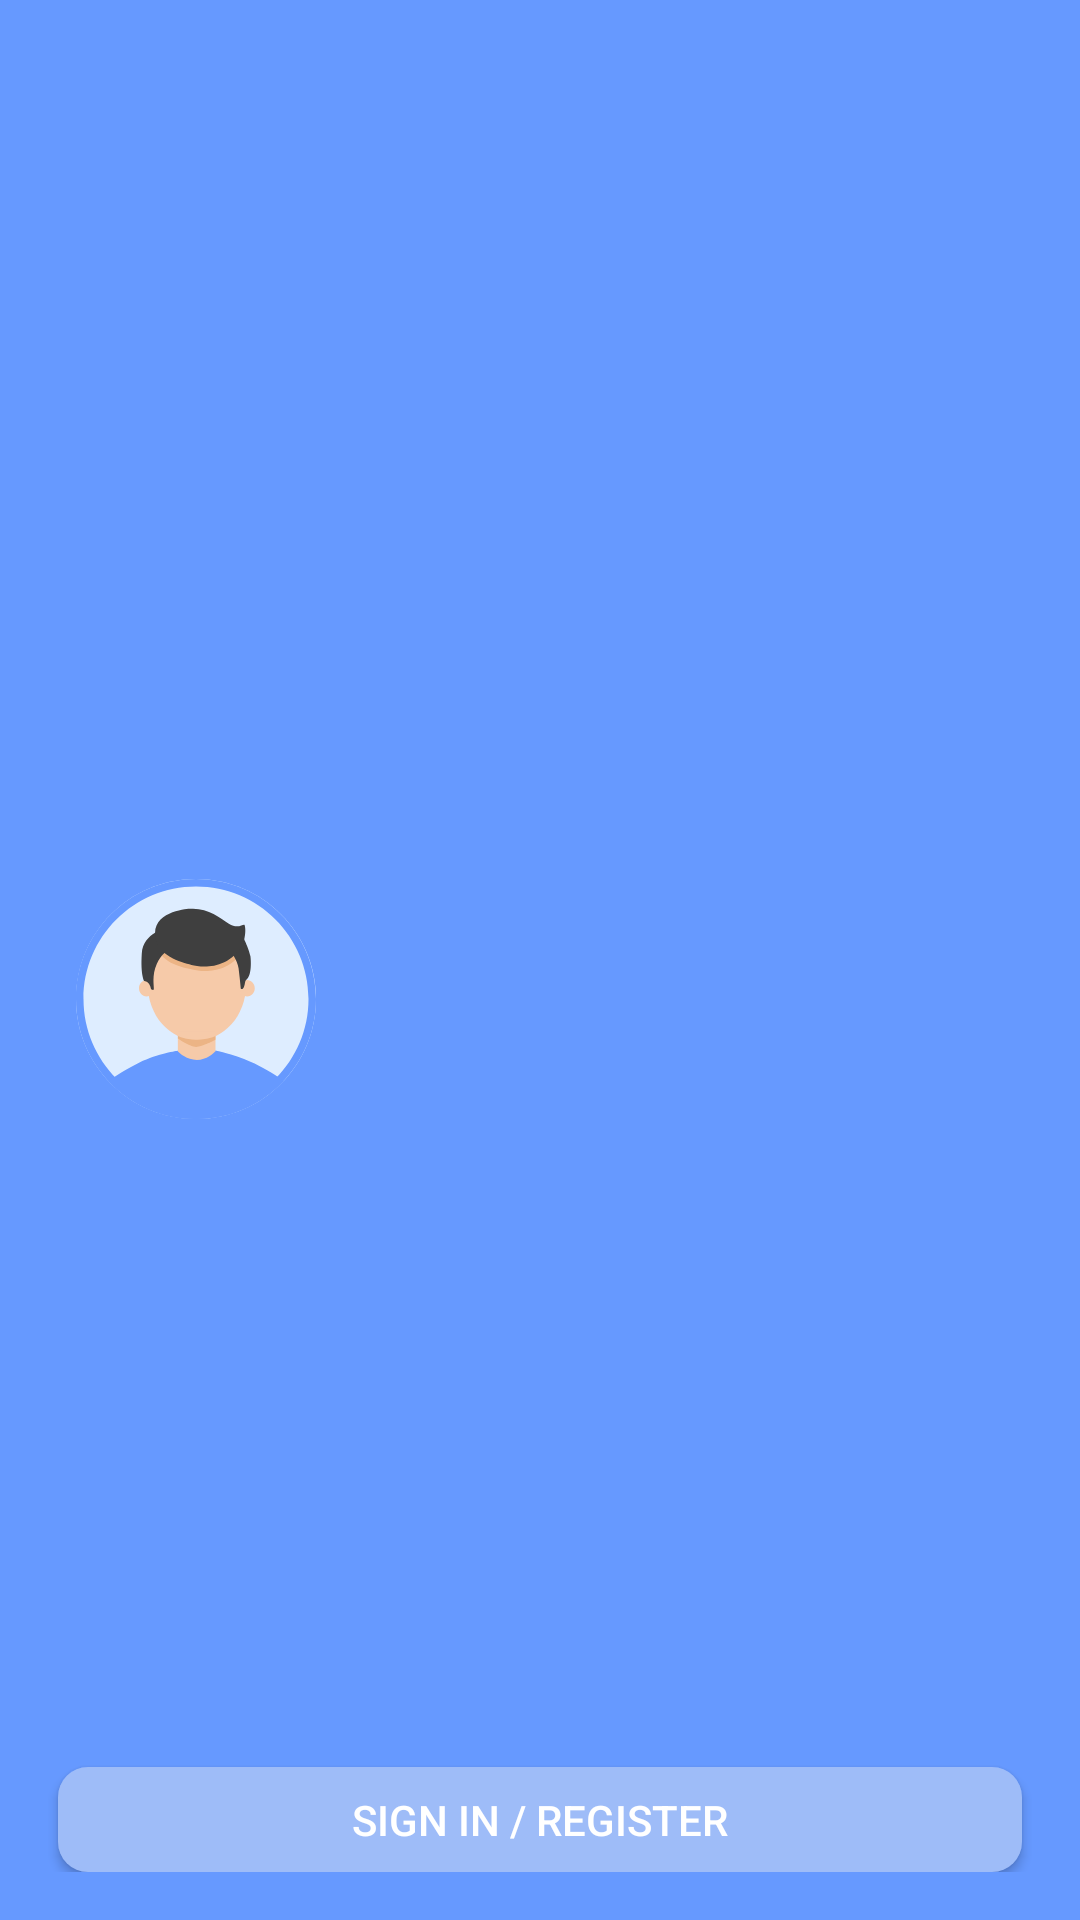

Where icons sit on this 1080x1920 app screen, as bbox(x1, y1, x2, y2):
user: bbox(76, 879, 316, 1078)
